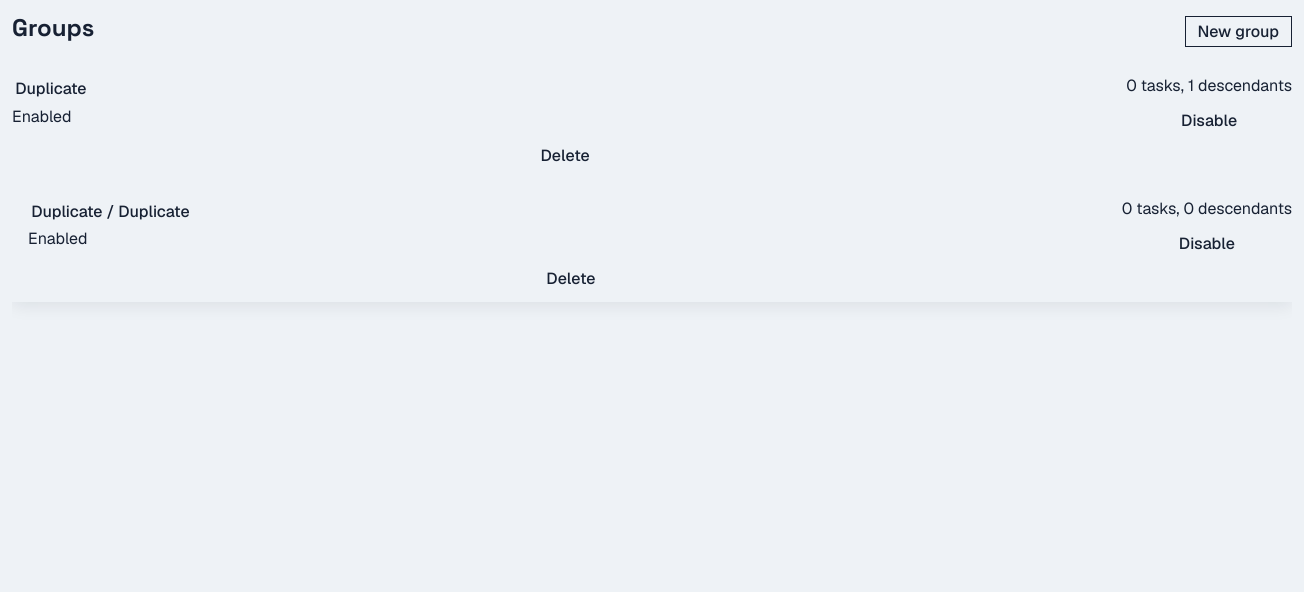
Scenario: uses full paths and excludes the edited group and descendants from parent choices
Click the button "Duplicate" at (51, 89), box [12, 75, 1118, 102]
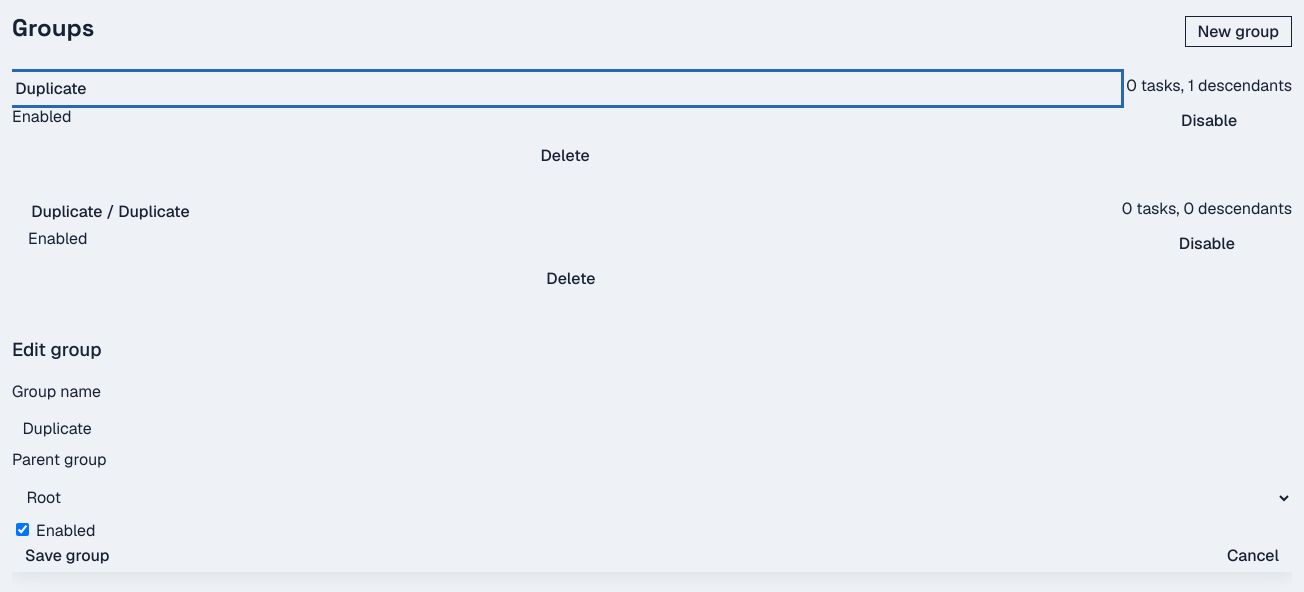
Check: the dropdown labelled "Parent group" does not show "Duplicate / Duplicate", box [12, 476, 1292, 520]
Check: the dropdown labelled "Parent group" no longer shows "Duplicate", box [12, 476, 1292, 520]
